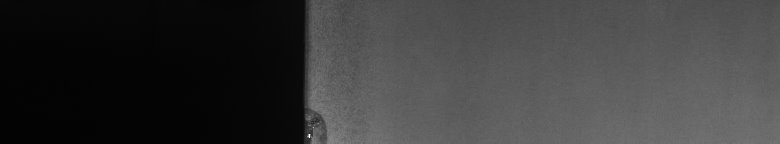hb: (316, 101, 336, 136)
